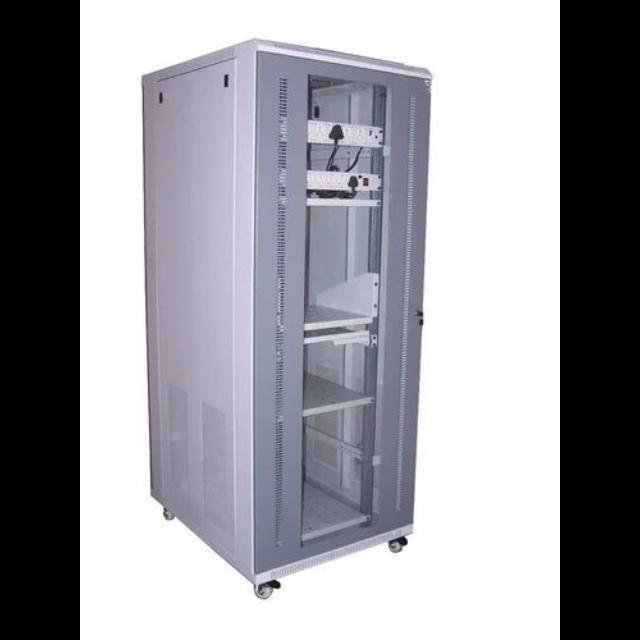Server: (134, 31, 432, 601)
